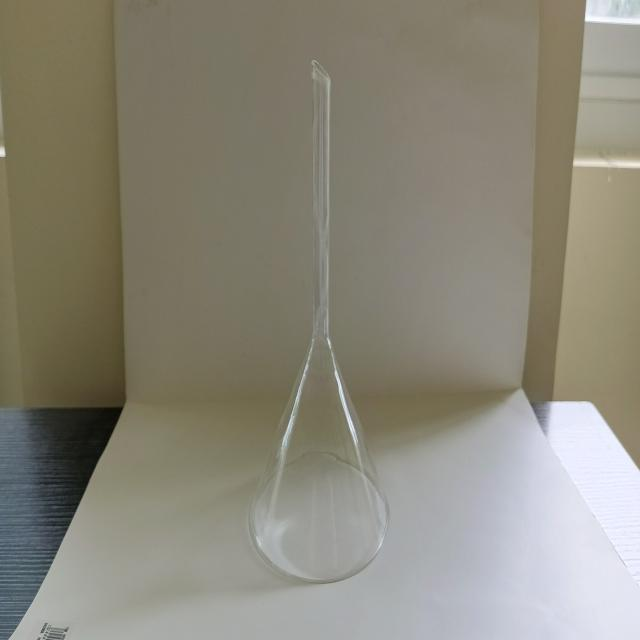funnel: (242, 59, 399, 596)
